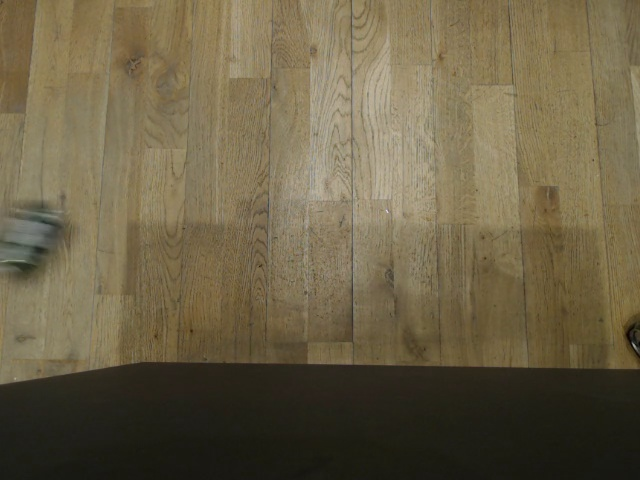beer: (0, 198, 66, 285)
